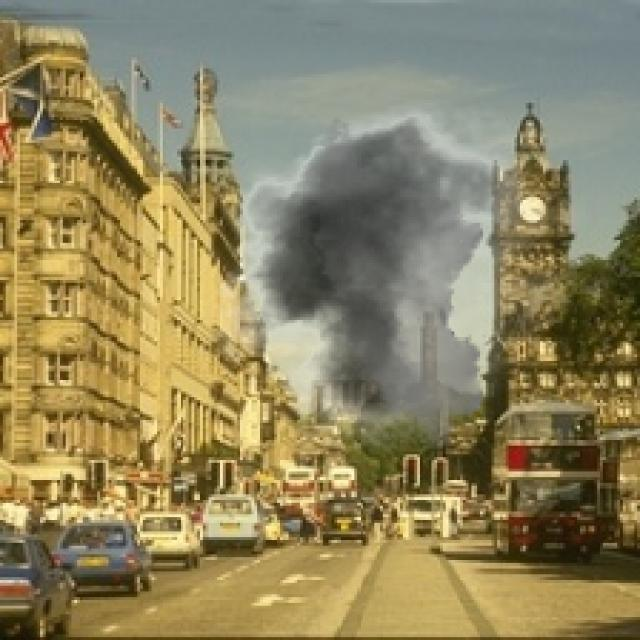smoke: (194, 86, 589, 451)
